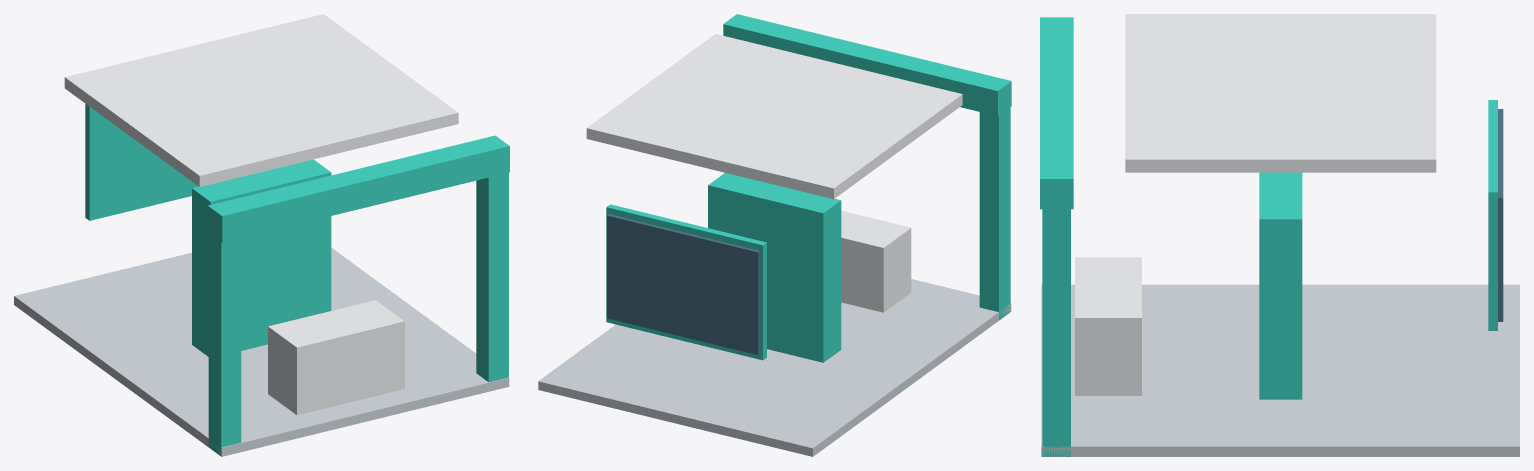
The picture shows the model from 3 angles, left to right: view 1: azimuth 30°, elevation 25°; view 2: azimuth 150°, elevation 25°; view 3: azimuth 270°, elevation 25°; orthographic projection. The views are drawn at different scales.
Parts seen in each view (by area): view 1: Exhibition Booth Concept; view 2: Exhibition Booth Concept; view 3: Exhibition Booth Concept.
Part boxes in pixels (x1,y1,x2,y2): Exhibition Booth Concept: [14, 14, 509, 456]; Exhibition Booth Concept: [538, 14, 1011, 456]; Exhibition Booth Concept: [1040, 14, 1519, 456].
Size of the model in its own units: 4 by 3.34 by 5.02.
